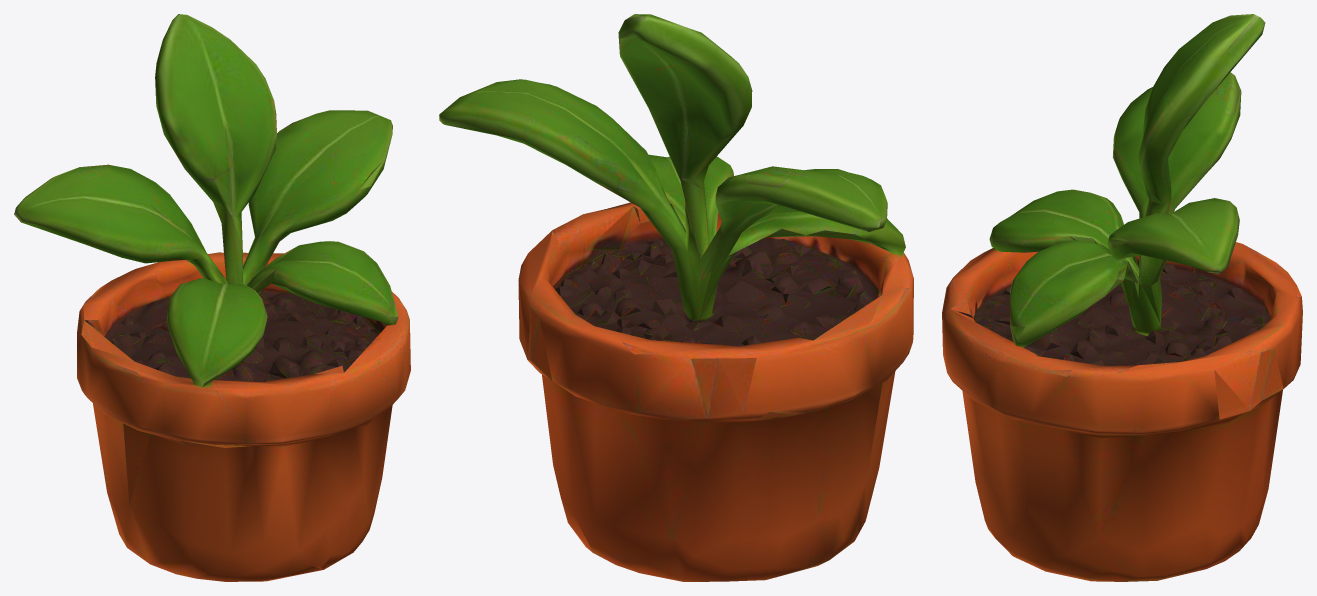
File: table_plant.gltf
3 renders of one model, left to right at view 1: azimuth 30°, elevation 25°; view 2: azimuth 150°, elevation 25°; view 3: azimuth 270°, elevation 25°, orthographic. The views are drawn at different scales.
Visible parts, largest first — view 1: table_plant; view 2: table_plant; view 3: table_plant.
Part boxes in pixels (left/top/right/bottom): table_plant: left=14, top=14, right=410, bottom=581; table_plant: left=439, top=14, right=913, bottom=581; table_plant: left=942, top=14, right=1302, bottom=581.
Bounding box in the file's own units: 0.4939 × 0.6 × 0.3822.
Materials: 1 (1 with a texture image).
